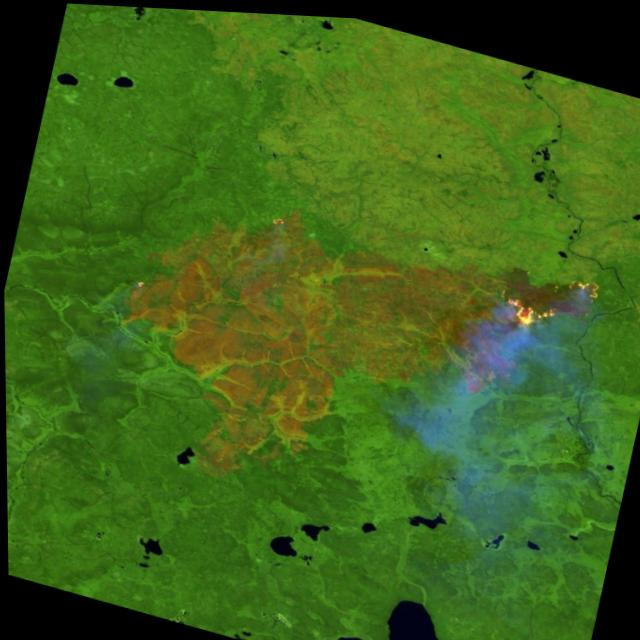fire: (488, 247, 603, 346)
